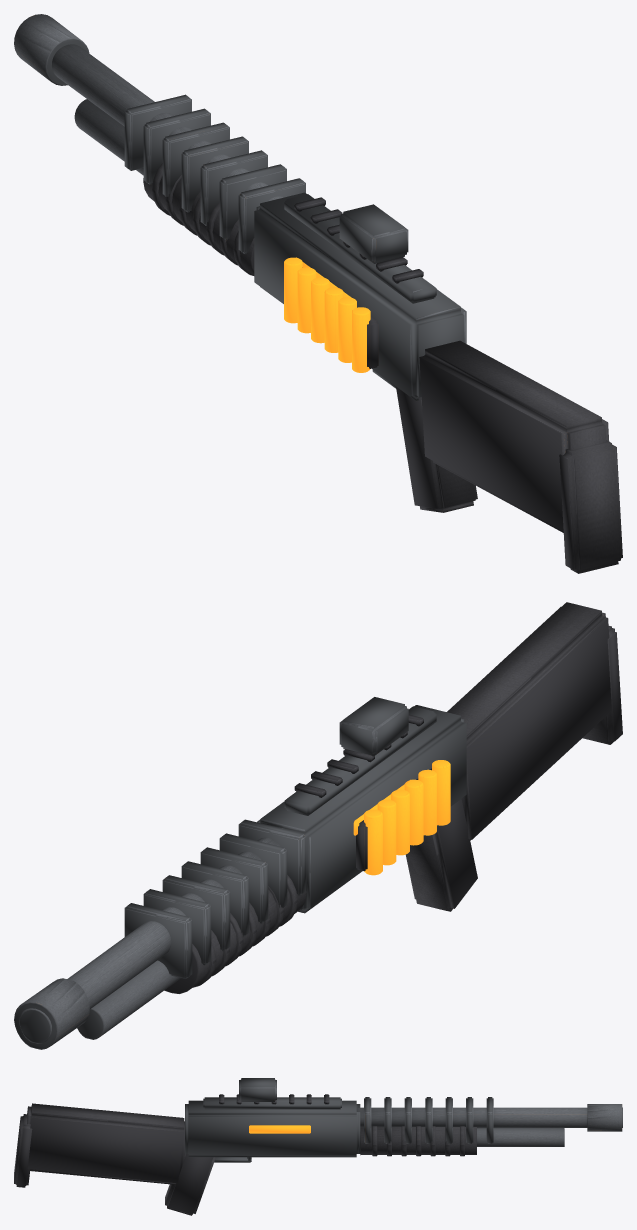
File: SM_Weapon_Shotgun.glb
The picture shows the model from 3 angles, top to bottom: view 1: azimuth 30°, elevation 25°; view 2: azimuth 150°, elevation 25°; view 3: azimuth 270°, elevation 25°; orthographic projection. The views are drawn at different scales.
Parts seen in each view (by area): view 1: SM_Weapon_Shotgun; view 2: SM_Weapon_Shotgun; view 3: SM_Weapon_Shotgun.
Boxes of the visible parts, left/top/right/bottom form: SM_Weapon_Shotgun: left=14, top=14, right=622, bottom=573; SM_Weapon_Shotgun: left=14, top=602, right=622, bottom=1049; SM_Weapon_Shotgun: left=14, top=1078, right=622, bottom=1215.
Size of the model in its own units: 0.068 by 0.1962 by 0.8345.
1 material, 1 textured.
